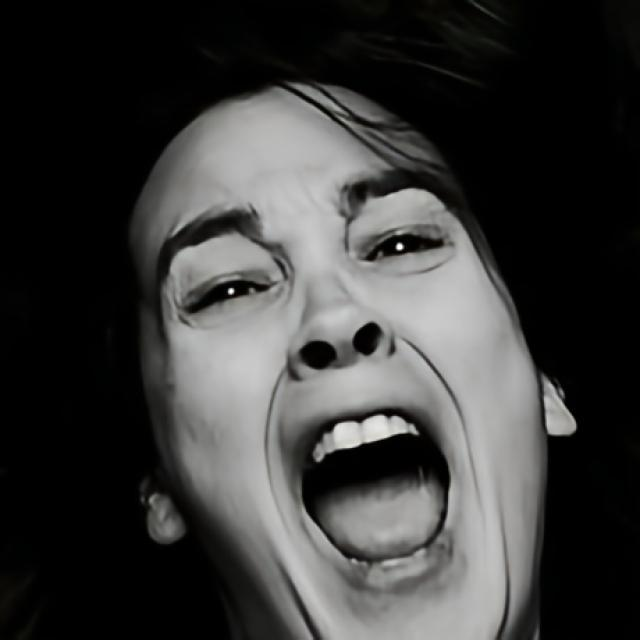fear: (129, 85, 552, 640)
